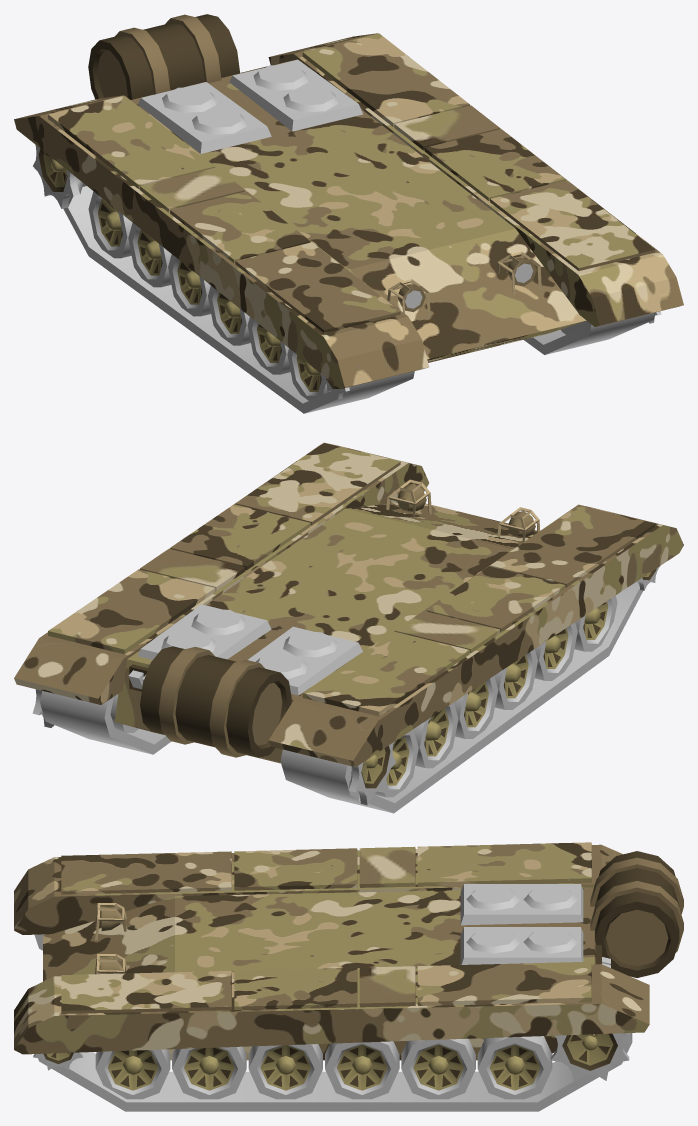
Rendered from tank_001.fbx.
3 views of the same model, one above another, from view 1: azimuth 30°, elevation 25°; view 2: azimuth 150°, elevation 25°; view 3: azimuth 270°, elevation 25° (orthographic). The views are drawn at different scales.
Parts seen in each view (by area): view 1: tank_001; view 2: tank_001; view 3: tank_001.
Part boxes in pixels (x1=…): tank_001: x1=14, y1=14, x2=683, y2=413; tank_001: x1=14, y1=442, x2=683, y2=813; tank_001: x1=14, y1=842, x2=683, y2=1111.
Bounding box in the file's own units: 496 × 884 × 227.
